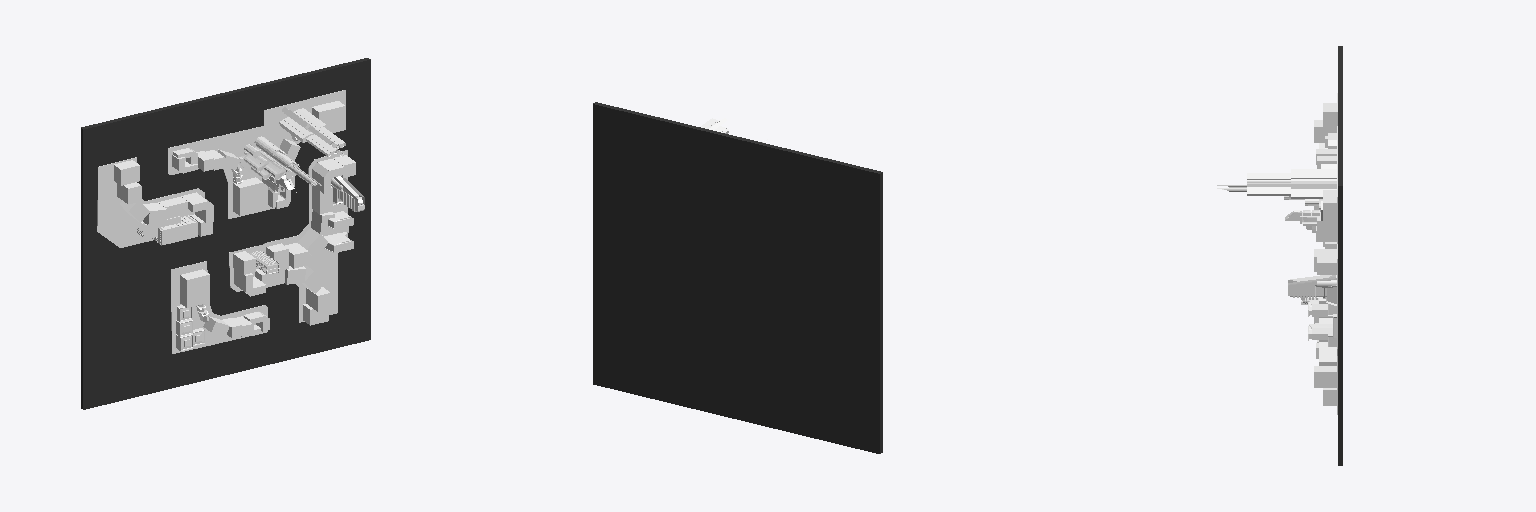
File: city.obj
The picture shows the model from 3 angles: view 1: azimuth 30°, elevation 25°; view 2: azimuth 150°, elevation 25°; view 3: azimuth 270°, elevation 25°; orthographic projection.
Parts seen in each view (by area): view 1: mesh01; view 2: mesh01; view 3: mesh01.
Part boxes in pixels (left/top/right/bottom): mesh01: left=81, top=58, right=370, bottom=409; mesh01: left=593, top=102, right=882, bottom=453; mesh01: left=1217, top=46, right=1342, bottom=465.
Bounding box in the file's own units: 60.51 × 56.44 × 23.14.